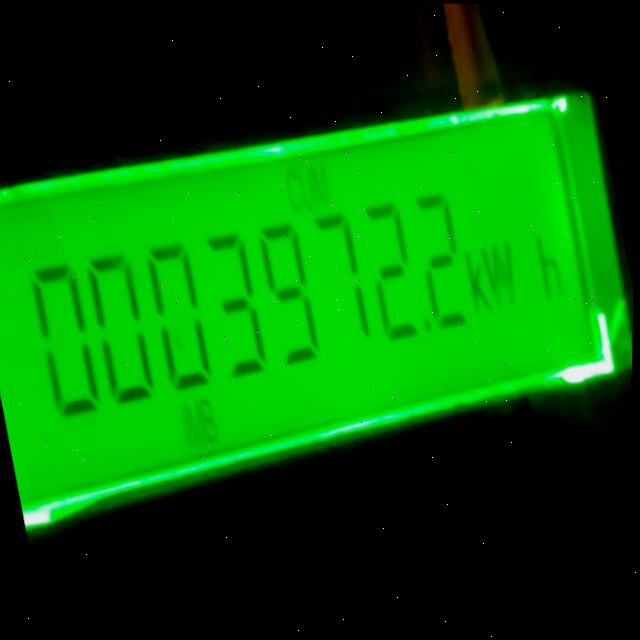.: (425, 318, 435, 335)
0: (81, 252, 163, 405), (31, 261, 106, 418), (144, 239, 219, 394)
2: (358, 201, 426, 342), (409, 190, 475, 330)
3: (205, 225, 274, 379)
7: (314, 211, 377, 346)
9: (257, 222, 326, 365)
